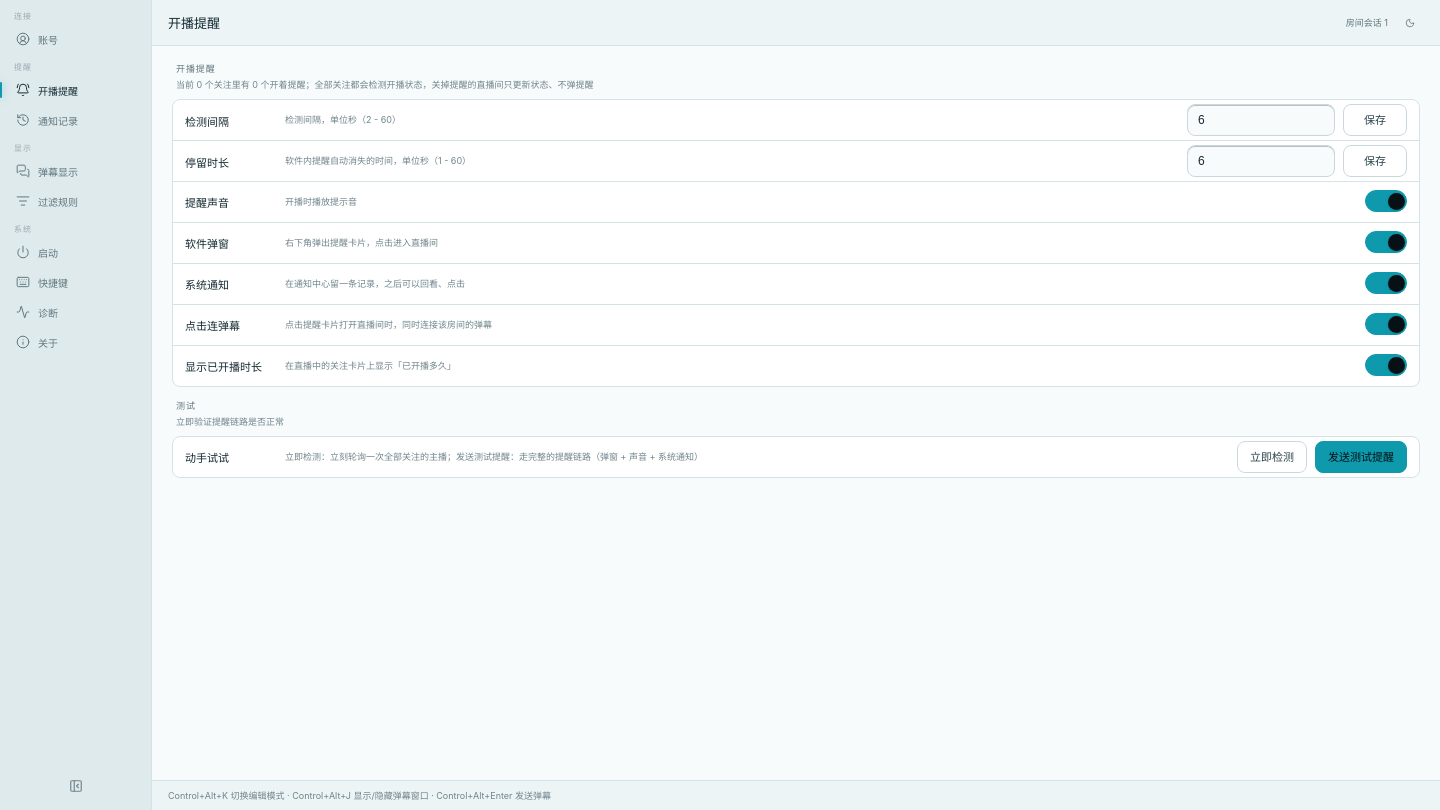
passes runtime warnings to the filter page
The image size is (1440, 810).
Click the button "过滤规则": (76, 201) [8,187,143,215]
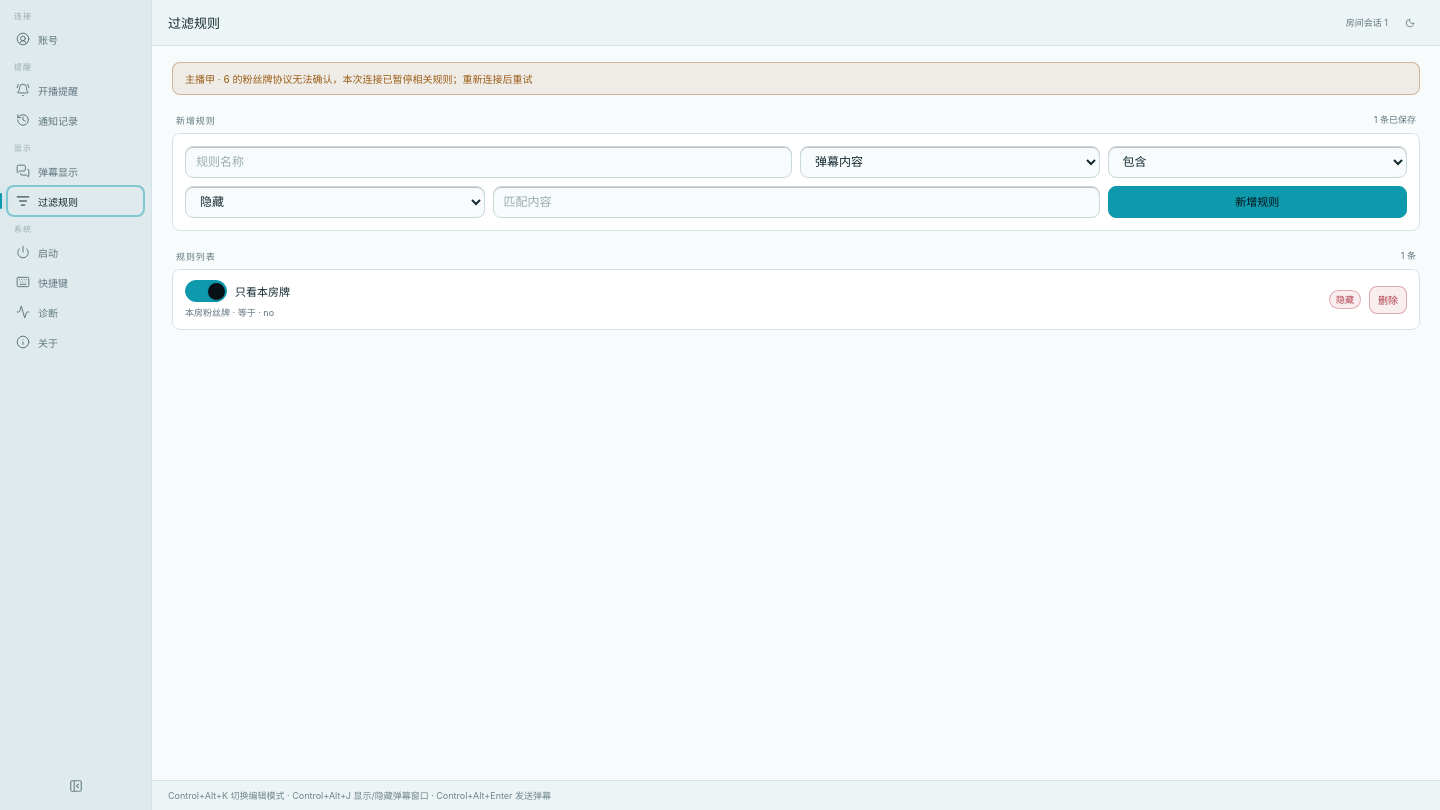
Result: the message shows "主播甲 · 6" at [185,73,230,85]
Result: the number of messages is 1 at [172,62,1420,95]
